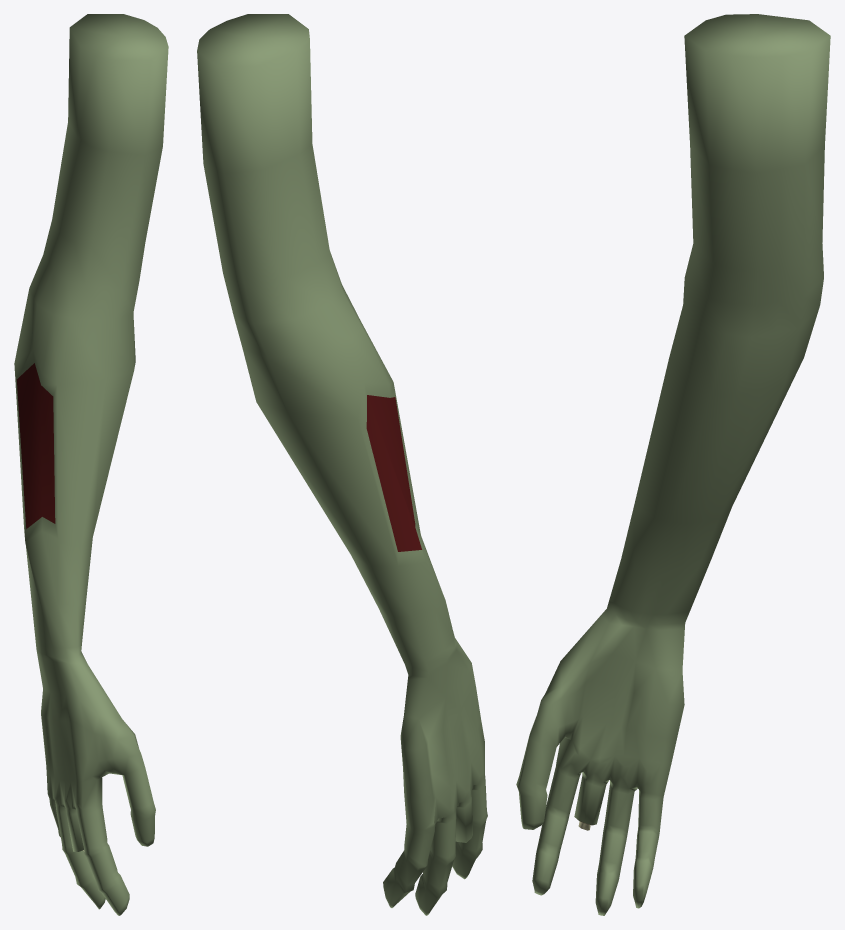
File: ZombieArm.fbx
3 views of the same model, side by side, from view 1: azimuth 30°, elevation 25°; view 2: azimuth 150°, elevation 25°; view 3: azimuth 270°, elevation 25° (orthographic). The views are drawn at different scales.
Visible parts, largest first — view 1: CharacterModel:Mesh; view 2: CharacterModel:Mesh; view 3: CharacterModel:Mesh.
Boxes of the visible parts, <box> form: CharacterModel:Mesh: <box>14,14,168,915</box>; CharacterModel:Mesh: <box>197,14,487,915</box>; CharacterModel:Mesh: <box>516,14,830,915</box>.
Size of the model in its own units: 31.01 by 146 by 44.7.
